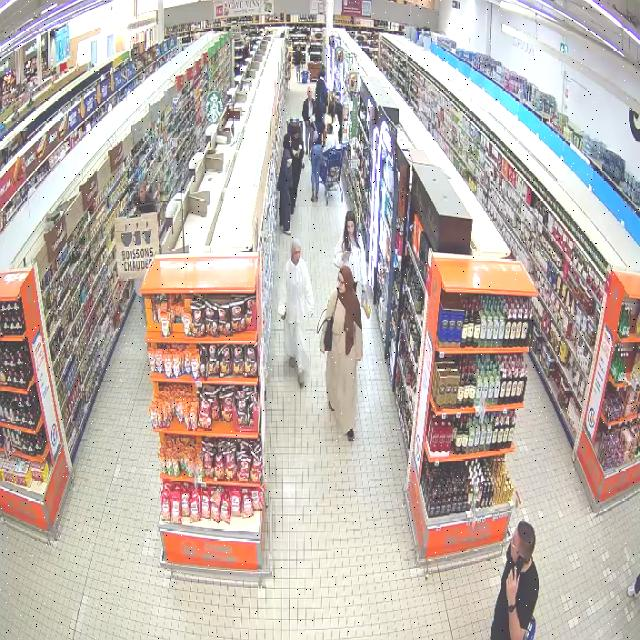bags: (316, 300, 338, 349), (312, 122, 319, 142)
hands: (506, 570, 523, 609), (342, 249, 352, 256)
person: (320, 264, 362, 440), (491, 521, 538, 639), (278, 240, 313, 386), (335, 209, 368, 313), (309, 111, 326, 201), (291, 121, 305, 213)
